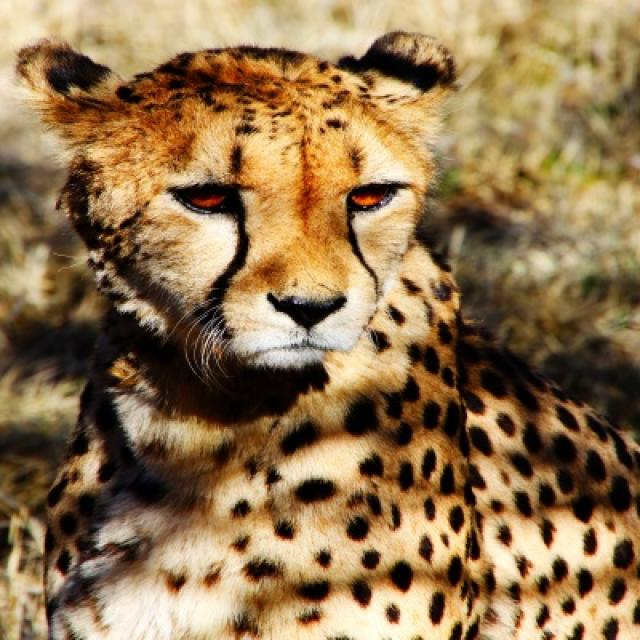Cheetah: (16, 30, 638, 638)
